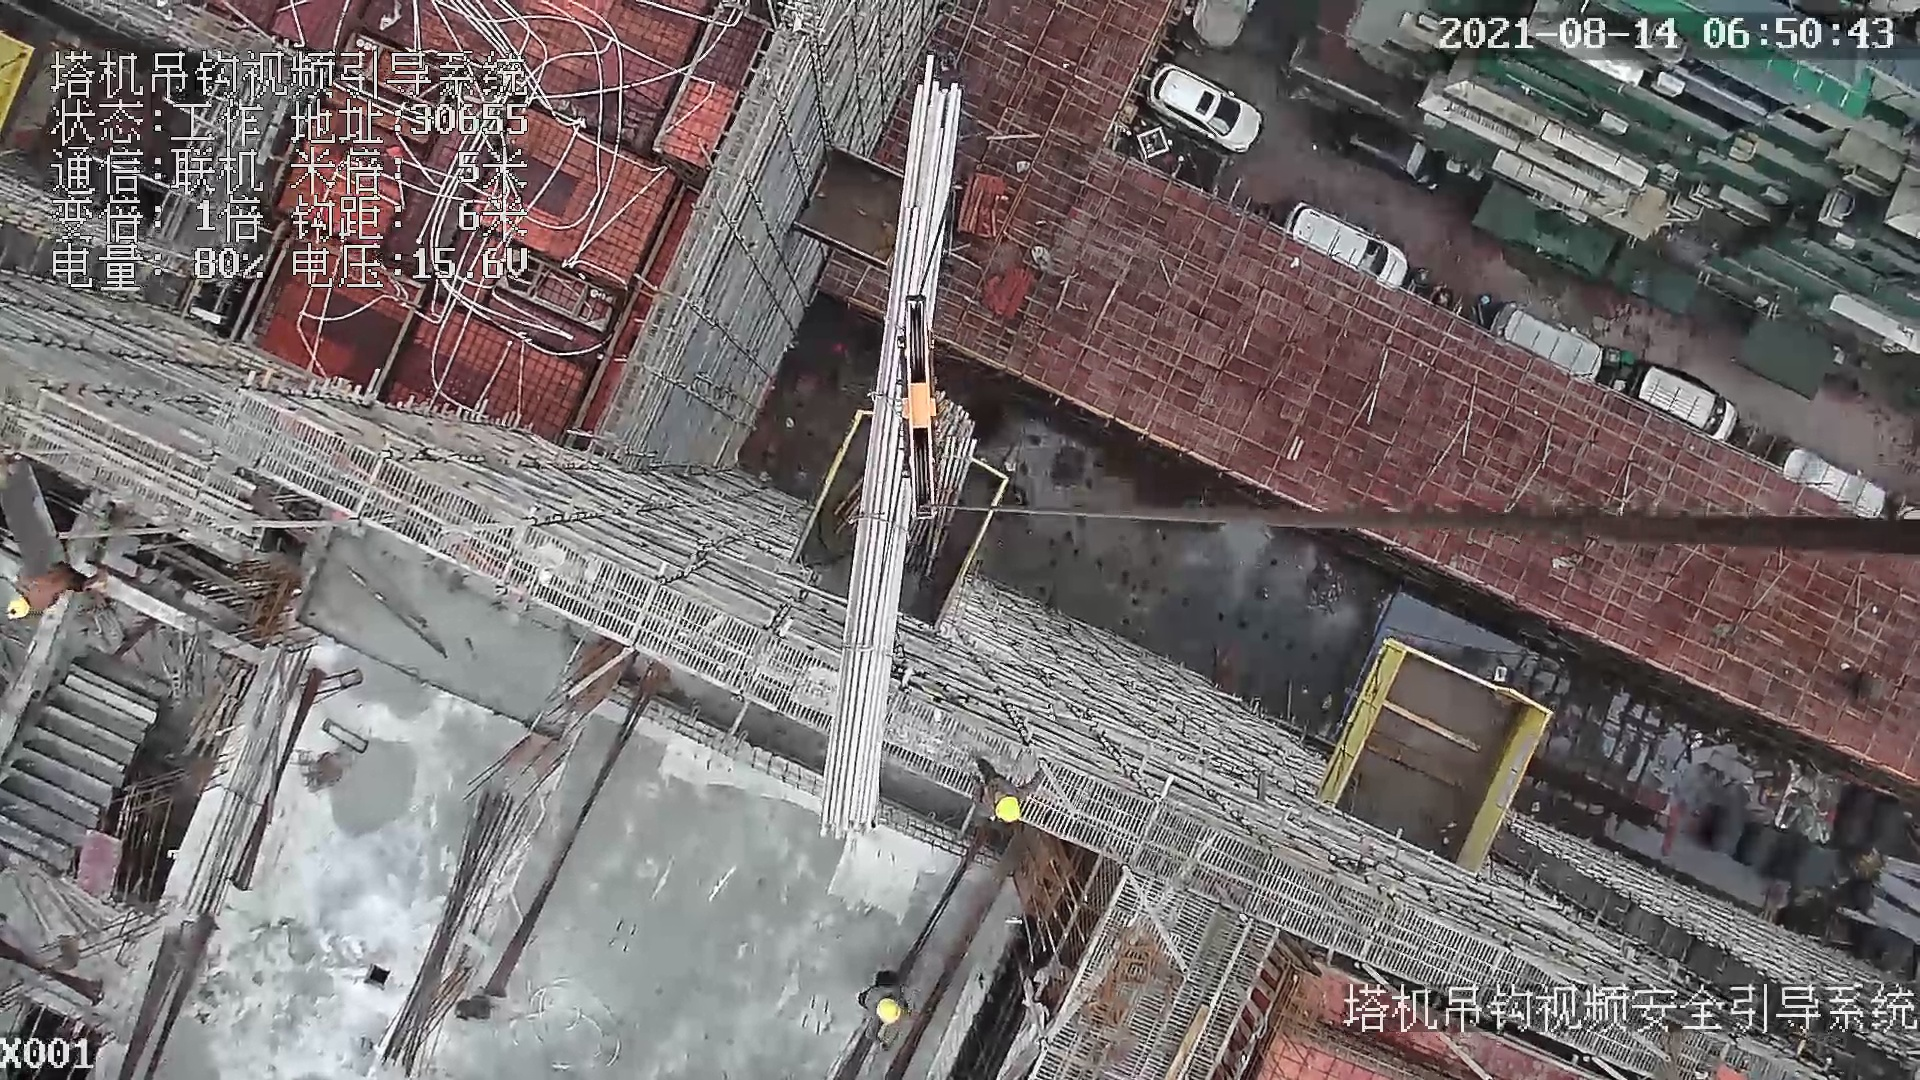helmet: (869, 990, 921, 1030), (989, 793, 1025, 833), (4, 591, 43, 622)
person: (1, 558, 114, 624), (964, 754, 1050, 832), (849, 963, 912, 1055)
